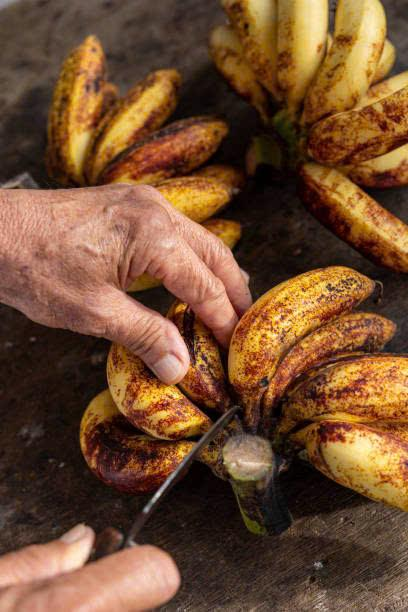banana: (221, 253, 408, 536), (185, 1, 408, 199)
